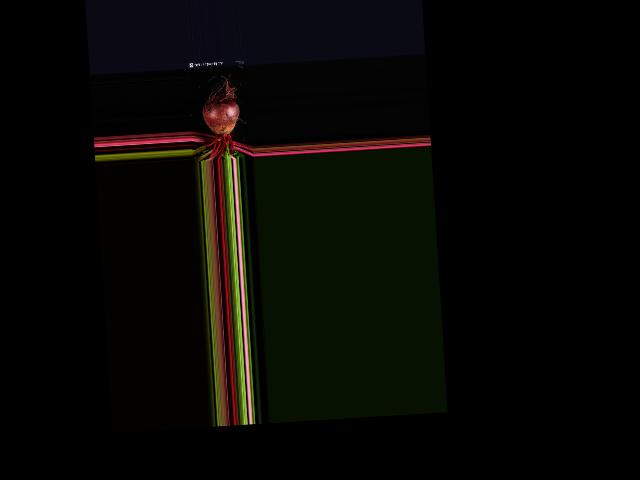beet: (187, 70, 243, 161)
